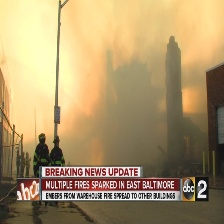smoke: (57, 3, 224, 163)
